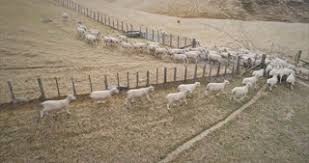sheep: (39, 94, 76, 119), (165, 89, 193, 110), (127, 86, 155, 104), (90, 88, 120, 104), (230, 83, 253, 99), (176, 81, 200, 96), (207, 79, 231, 94), (242, 75, 261, 86), (267, 72, 278, 89), (171, 53, 188, 63), (286, 71, 296, 88), (101, 33, 113, 45), (252, 67, 266, 77), (84, 31, 96, 42)
